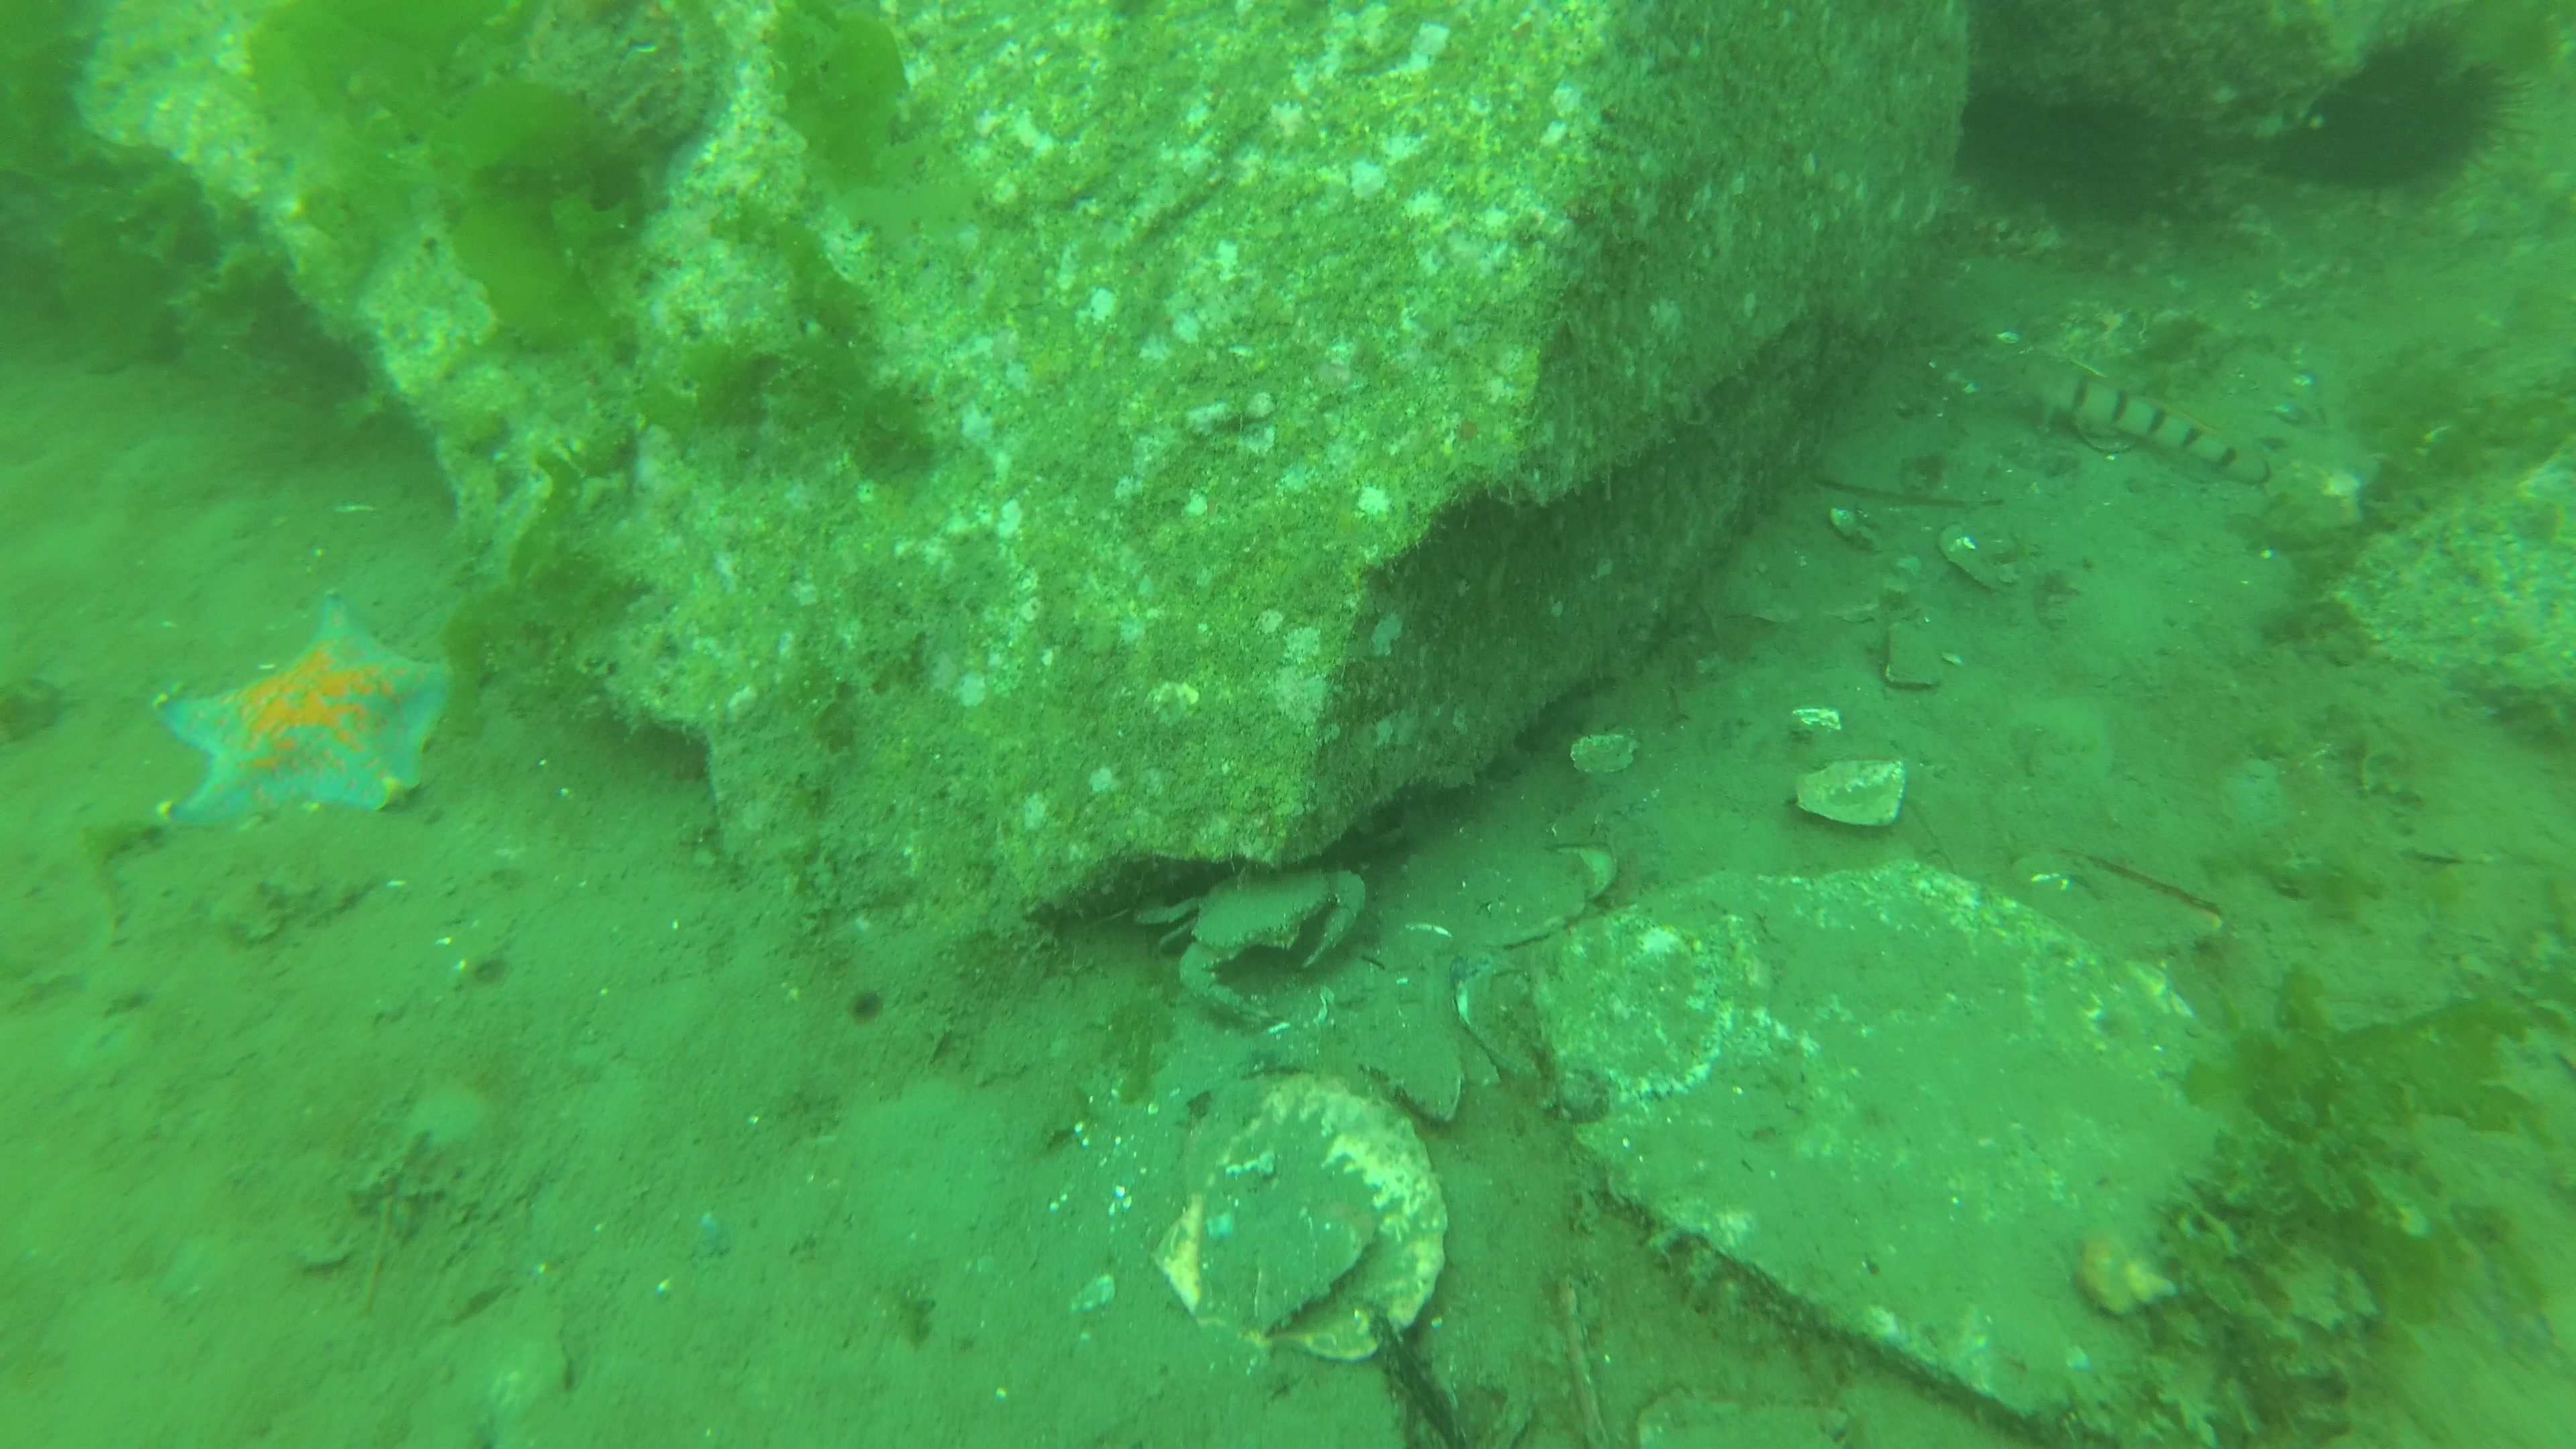echinus: (2273, 34, 2528, 195)
scallop: (1143, 1062, 1444, 1357)
starfish: (152, 594, 455, 832)
